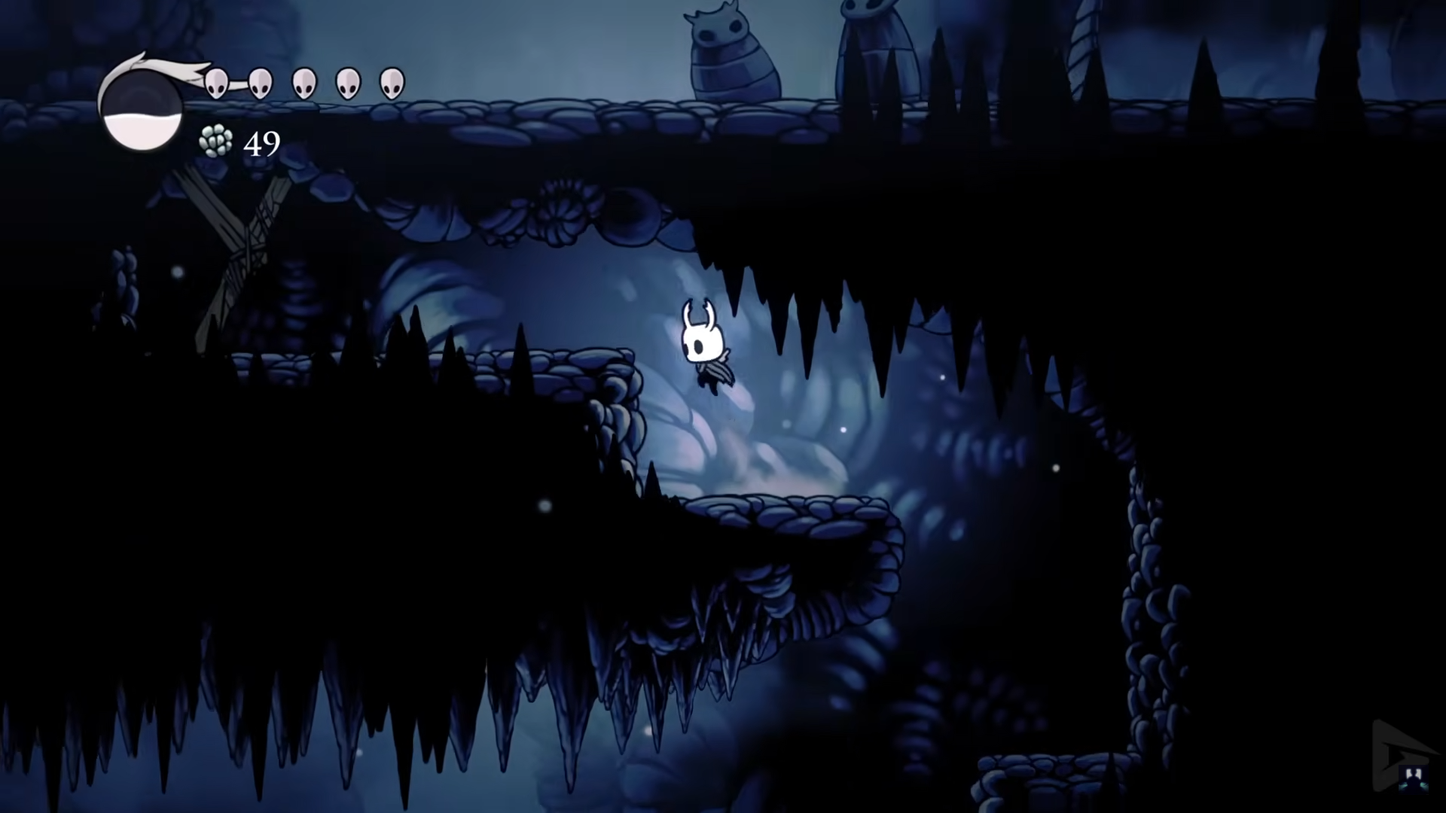HK: (674, 294, 737, 398)
